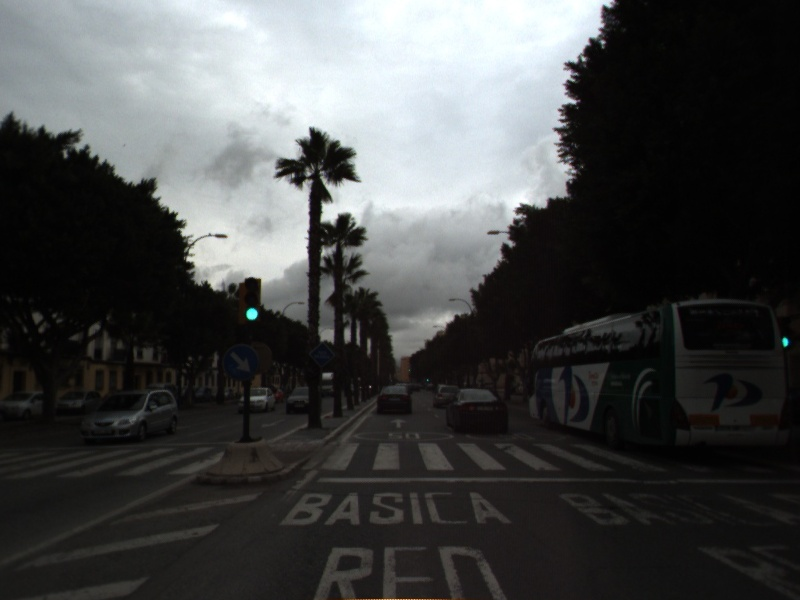STRAIGHT: (388, 417, 409, 430)
